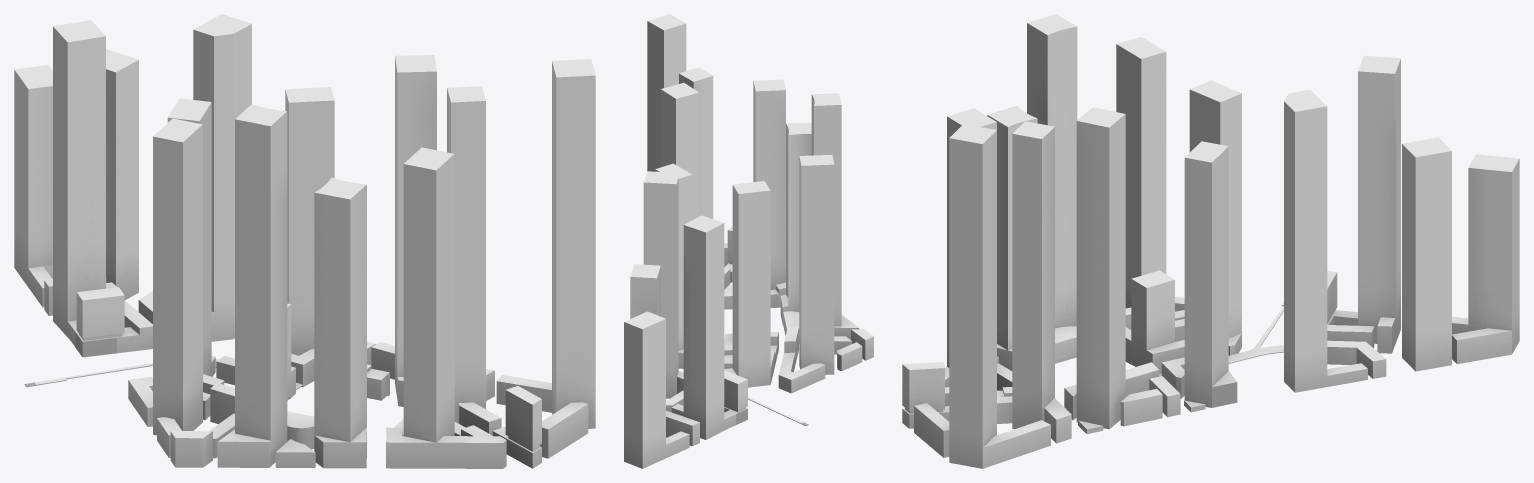
The model's file is city2-AO.glb.
3 renders of one model, left to right at view 1: azimuth 30°, elevation 25°; view 2: azimuth 150°, elevation 25°; view 3: azimuth 270°, elevation 25°, orthographic. The views are drawn at different scales.
Parts seen in each view (by area): view 1: city-2; view 2: city-2; view 3: city-2.
Part boxes in pixels (box(x1,y1,x2,y2)): city-2: box(14, 14, 595, 468); city-2: box(624, 14, 873, 468); city-2: box(902, 14, 1519, 468).
Size of the model in its own units: 470 by 401 by 688.
Materials: 1 (1 with a texture image).
